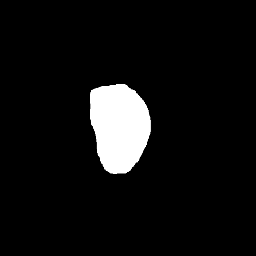mass: (92, 88, 152, 166)
